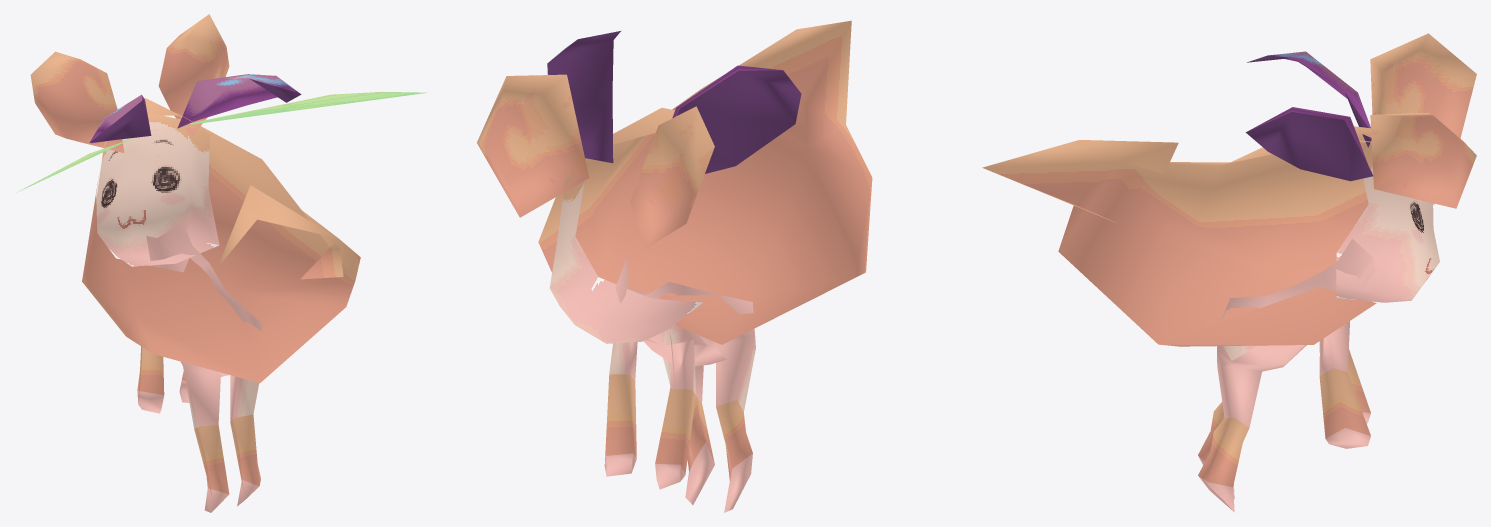
Rendered from ps2_save-icons_breathoffiredragonquarter.glb.
3 views of the same model, side by side, from view 1: azimuth 30°, elevation 25°; view 2: azimuth 150°, elevation 25°; view 3: azimuth 270°, elevation 25° (orthographic). The views are drawn at different scales.
Visible parts, largest first — view 1: fairy.ico; view 2: fairy.ico; view 3: fairy.ico.
Part boxes in pixels (x1=…): fairy.ico: x1=16, y1=14, x2=426, y2=512; fairy.ico: x1=477, y1=20, x2=872, y2=512; fairy.ico: x1=982, y1=33, x2=1476, y2=512.
Bounding box in the file's own units: 4.82 × 4.56 × 4.72.
Materials: 1 (1 with a texture image).
